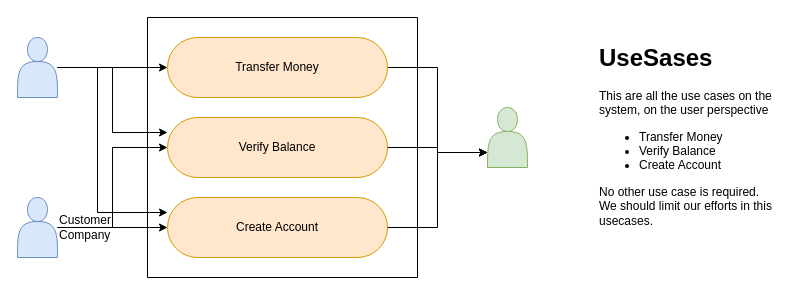
The diagram is 795 pixels wide and 295 high, and some of its shapes have lost their labels. The box of each missing label's shape, as (x1, y1, x2, y2) in pixels:
Customer Personal: (16, 36, 58, 98)
PicPay System: (486, 106, 528, 168)
